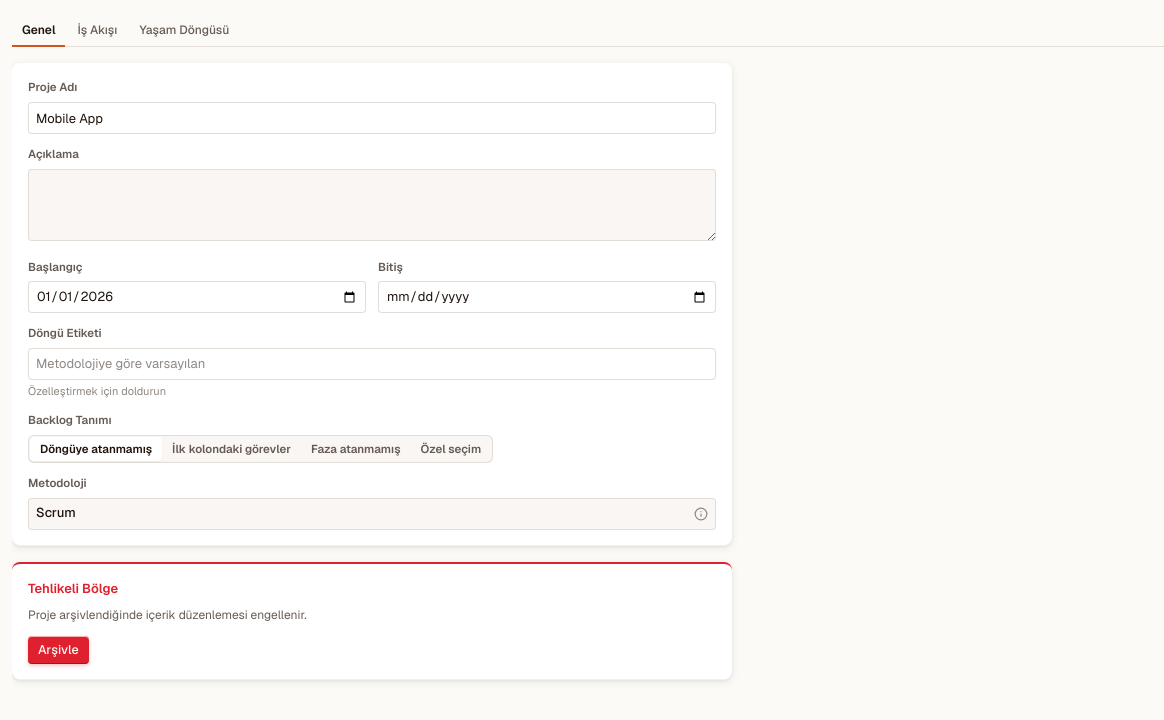
SettingsTab › switches to İş Akışı and shows both editor link buttons (lifecycle + status)
Click the button "İş Akışı" at x=97, y=32, box [68, 16, 127, 47]
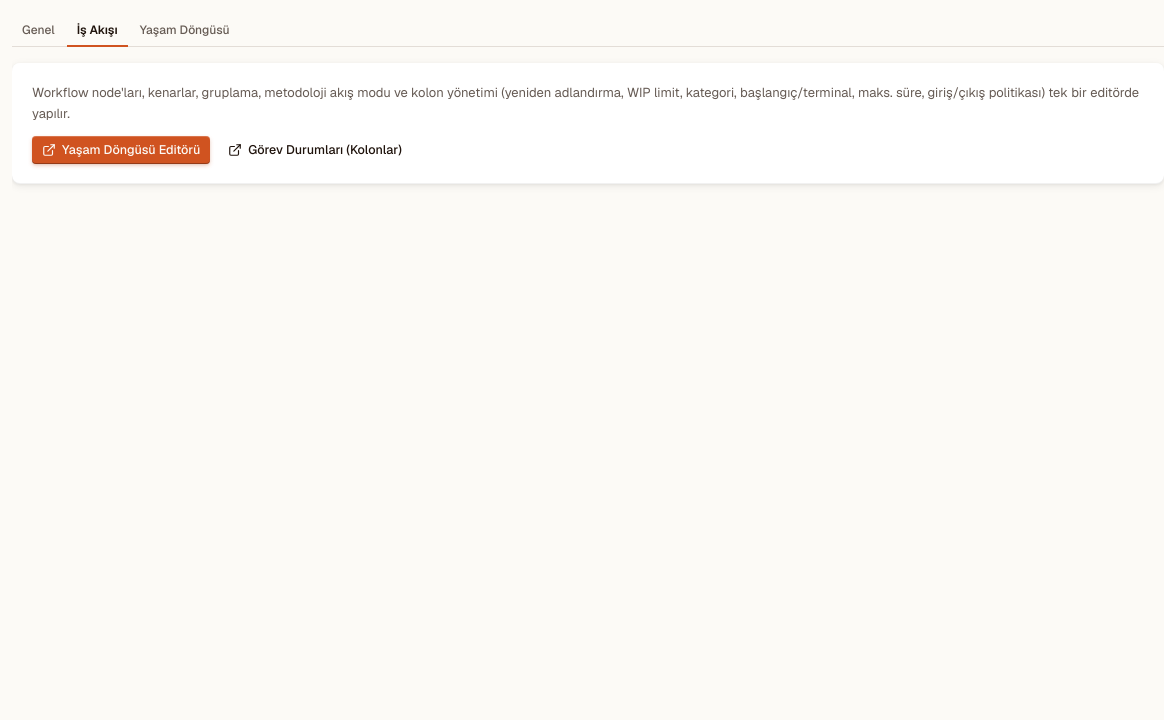
Expected: the button "Yaşam Döngüsü Editörü" is shown, [32, 136, 210, 164]
Expected: the button "Görev Durumları (Kolonlar)" is shown, [218, 136, 412, 164]
